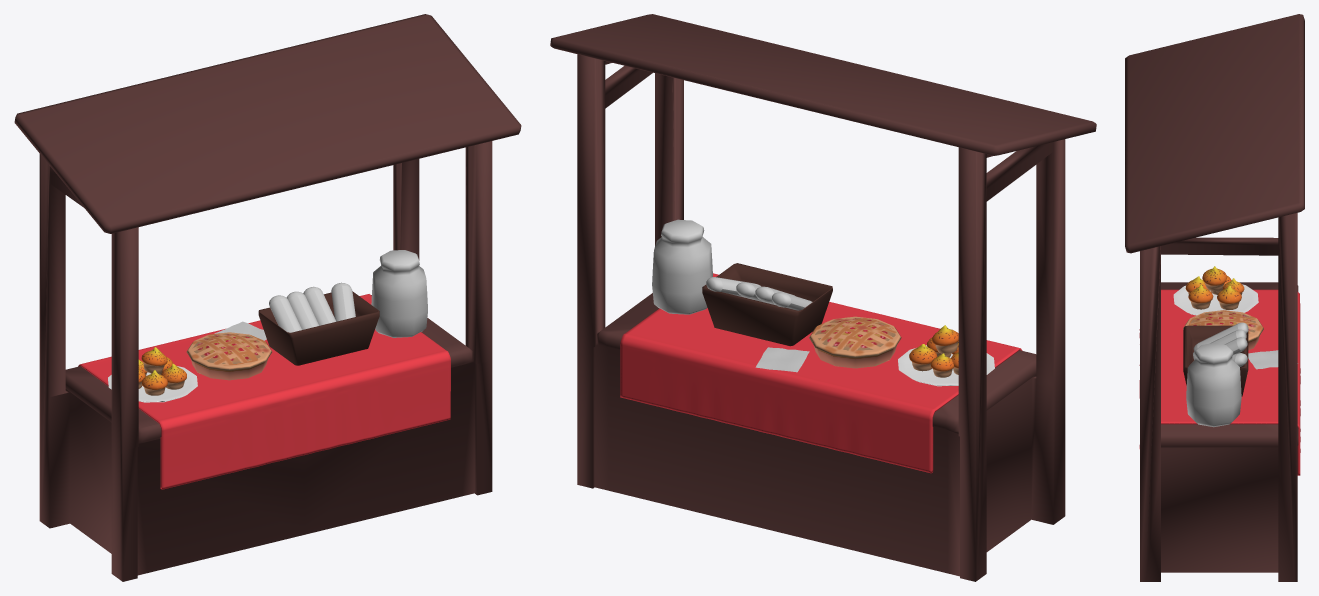
Rendered from Farm stand.fbx.
The picture shows the model from 3 angles, left to right: view 1: azimuth 30°, elevation 25°; view 2: azimuth 150°, elevation 25°; view 3: azimuth 270°, elevation 25°; orthographic projection. The views are drawn at different scales.
Parts seen in each view (by area): view 1: Cube, Plane, Cube.002, Cylinder, Cylinder.009, Cylinder.002, Cylinder.011, Cylinder.008, Cylinder.010, Cylinder.012; view 2: Cube, Plane, Cube.002, Cylinder, Cylinder.009, Cylinder.002, Plane.001; view 3: Cube, Plane, Cylinder, Cube.002, Cylinder.009, Cylinder.002, Plane.001, Cylinder.003, Cylinder.001, Cylinder.005, Cylinder.008, Cylinder.012 (+1 smaller).
Part boxes in pixels (x1=…): Cube: x1=14, y1=14, x2=521, y2=581; Plane: x1=78, y1=294, x2=450, y2=489; Cube.002: x1=258, y1=291, x2=379, y2=365; Cylinder: x1=371, y1=250, x2=427, y2=337; Cylinder.009: x1=186, y1=332, x2=271, y2=380; Cylinder.002: x1=108, y1=366, x2=197, y2=402; Cylinder.011: x1=331, y1=282, x2=355, y2=321; Cylinder.008: x1=269, y1=295, x2=301, y2=332; Cylinder.010: x1=303, y1=286, x2=336, y2=325; Cylinder.012: x1=286, y1=291, x2=318, y2=329; Cube: x1=550, y1=14, x2=1096, y2=581; Plane: x1=620, y1=273, x2=1022, y2=473; Cube.002: x1=702, y1=263, x2=832, y2=346; Cylinder: x1=652, y1=219, x2=712, y2=314; Cylinder.009: x1=809, y1=316, x2=901, y2=368; Cylinder.002: x1=898, y1=345, x2=994, y2=386; Plane.001: x1=755, y1=347, x2=809, y2=372; Cube: x1=1125, y1=14, x2=1304, y2=581; Plane: x1=1139, y1=289, x2=1300, y2=475; Cylinder: x1=1186, y1=343, x2=1241, y2=427; Cube.002: x1=1183, y1=325, x2=1248, y2=396; Cylinder.009: x1=1183, y1=310, x2=1263, y2=350; Cylinder.002: x1=1173, y1=284, x2=1258, y2=315; Plane.001: x1=1248, y1=350, x2=1297, y2=369; Cylinder.003: x1=1202, y1=266, x2=1227, y2=291; Cylinder.001: x1=1188, y1=284, x2=1213, y2=309; Cylinder.005: x1=1217, y1=285, x2=1241, y2=309; Cylinder.008: x1=1193, y1=322, x2=1248, y2=351; Cylinder.012: x1=1193, y1=329, x2=1246, y2=359.
Bounding box in the file's own units: 811 × 764 × 321.
